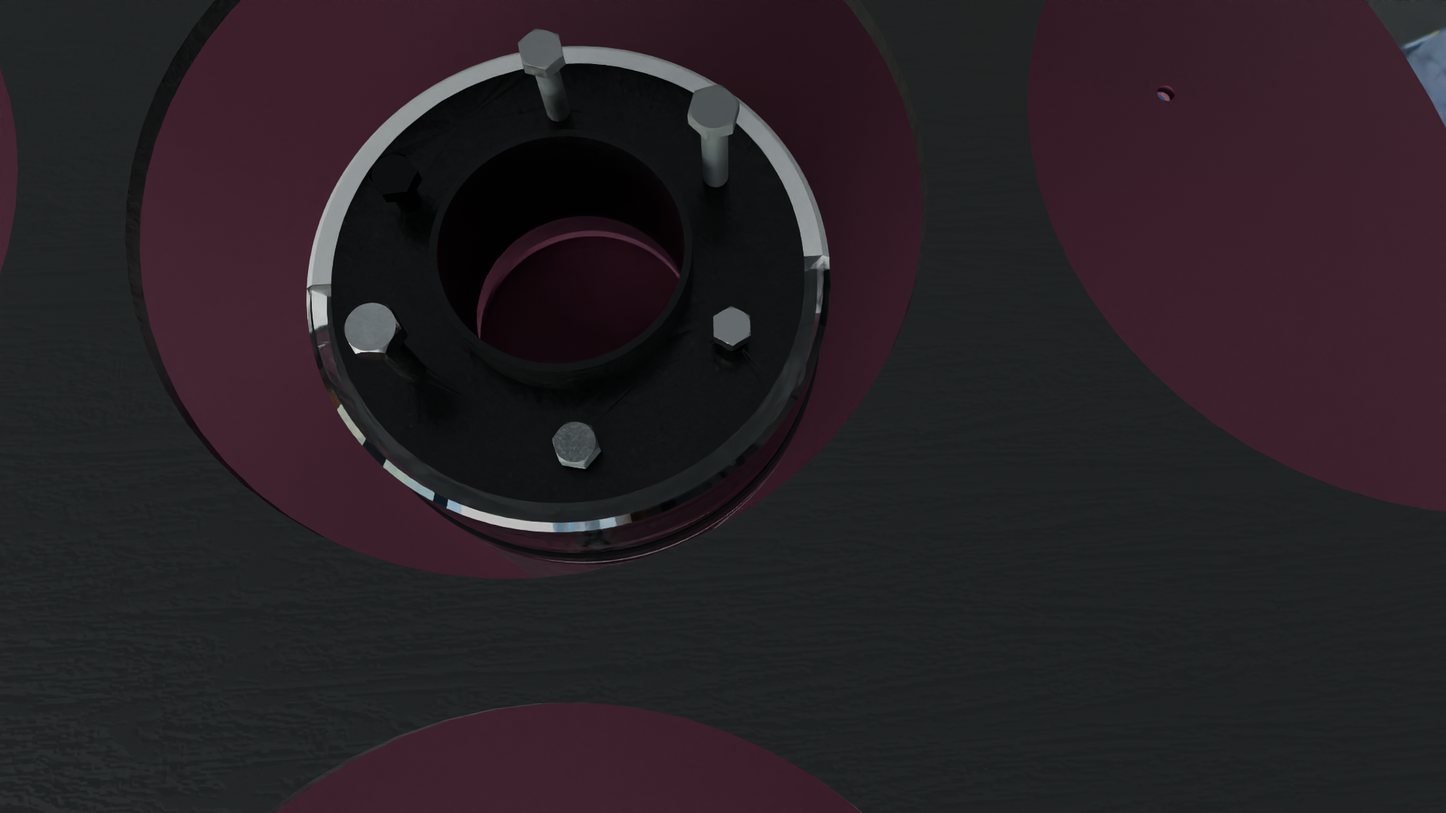bolt: (343, 303, 401, 354), (688, 84, 740, 132), (368, 154, 418, 195), (552, 422, 599, 465), (517, 29, 563, 70), (713, 306, 751, 346)
